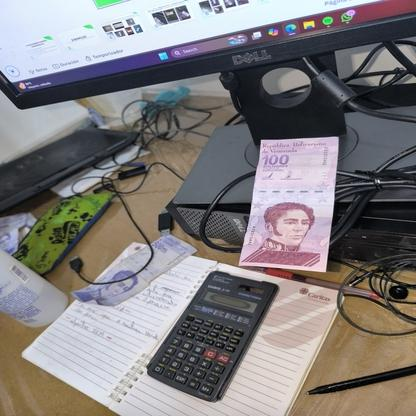one_hundred-front-vef: (236, 136, 338, 273)
